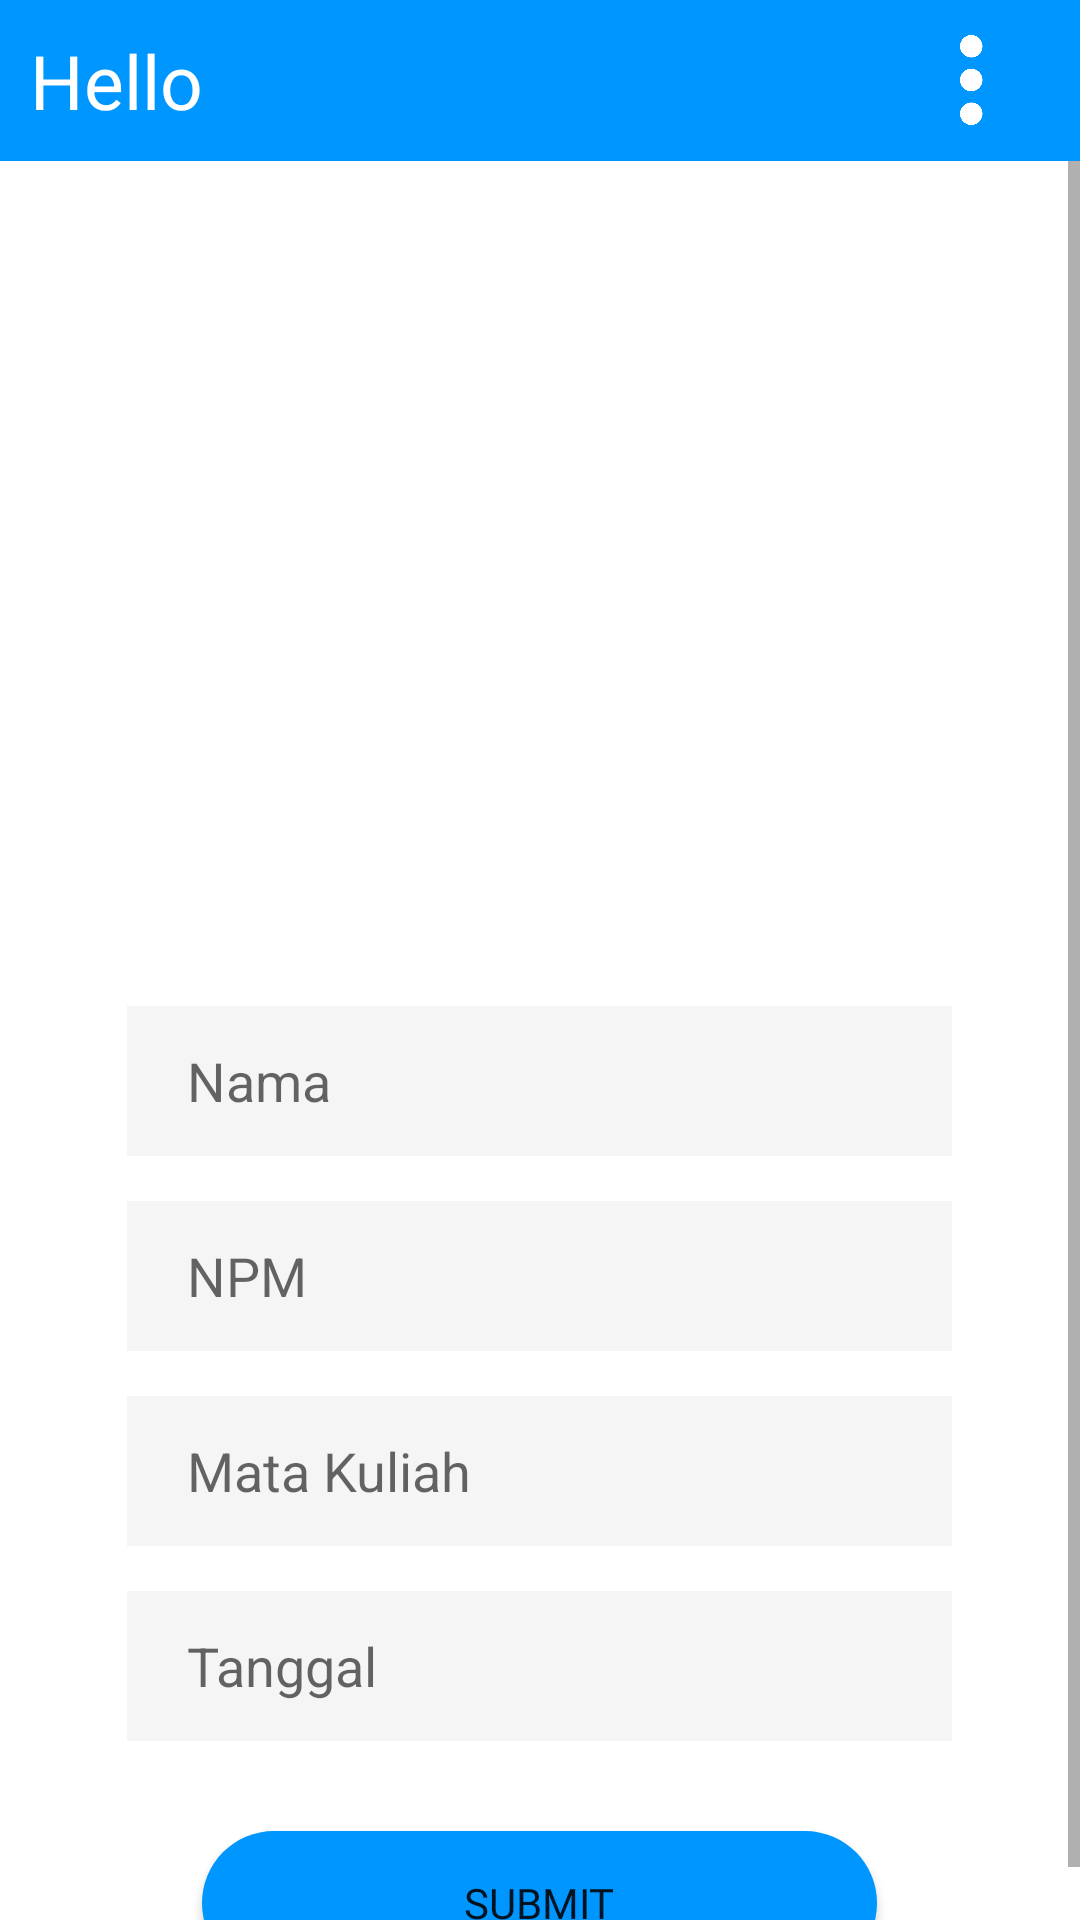

Icons on this 1080 x 1920 Android screen, each with its box as detection(x1, y1, x2, y2):
menu: detection(960, 35, 983, 125)
